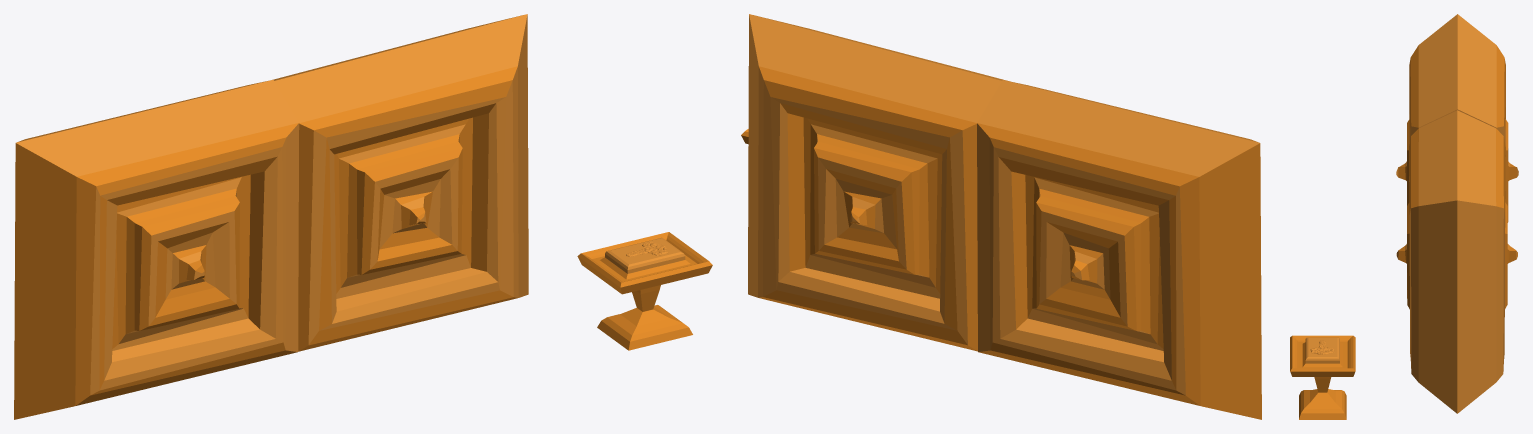
Rendered from Last_Resort_Door.fbx.
3 renders of one model, left to right at view 1: azimuth 30°, elevation 25°; view 2: azimuth 150°, elevation 25°; view 3: azimuth 270°, elevation 25°, orthographic. The views are drawn at different scales.
Visible parts, largest first — view 1: Cube.503, Cube.504, Cube.505; view 2: Cube.503, Cube.504; view 3: Cube.504, Cube.503, Cube.505.
Part boxes in pixels (x1,y1,x2,y2): Cube.503: [14, 80, 299, 419]; Cube.504: [272, 14, 528, 351]; Cube.505: [577, 232, 712, 350]; Cube.503: [977, 80, 1261, 419]; Cube.504: [748, 14, 1007, 351]; Cube.504: [1396, 110, 1517, 413]; Cube.503: [1396, 14, 1518, 222]; Cube.505: [1290, 335, 1355, 419].
Bounding box in the file's own units: 534 × 244 × 237.
